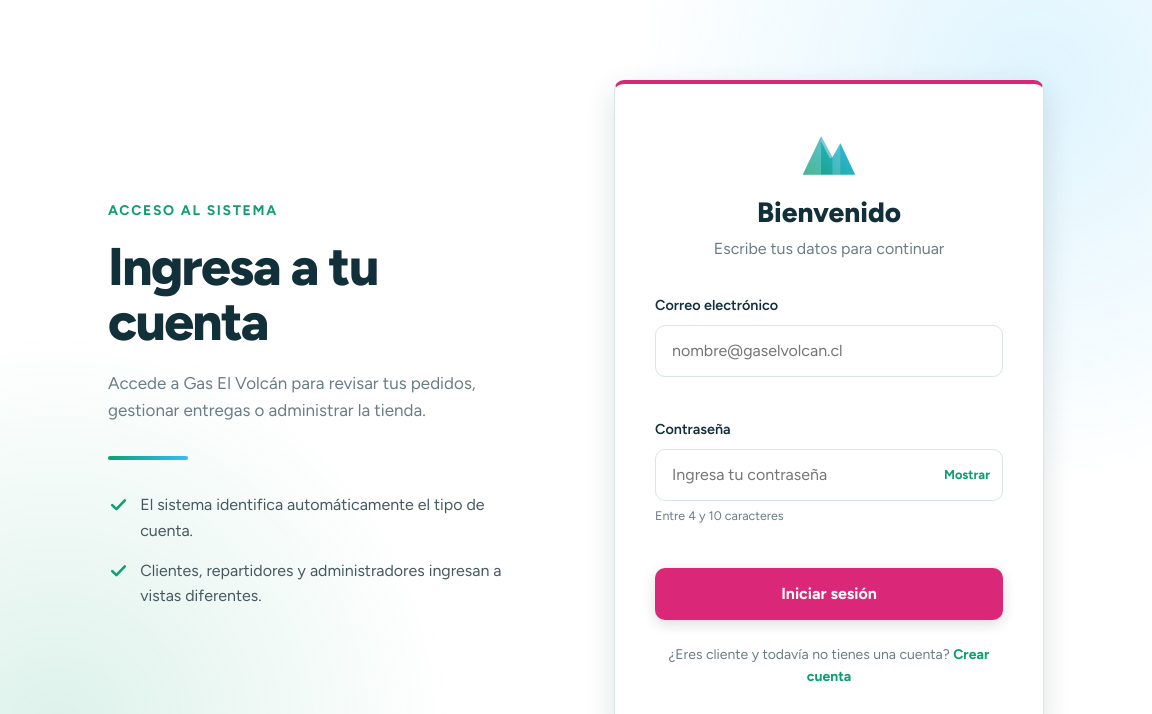
Scenario: Login: errores › avisa si la contraseña es incorrecta
This screenshot has width=1152, height=714.
In the field labelled "Correo electrónico": (829, 351) [655,325,1003,377], type "camila@gmail.com"
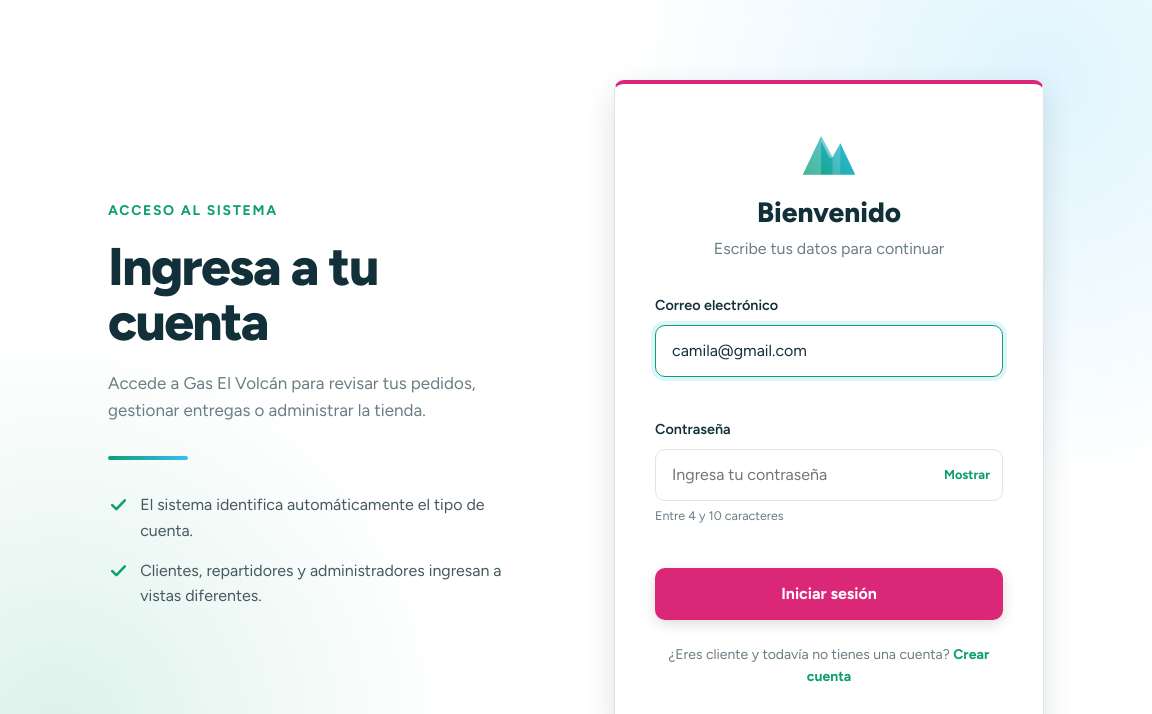
In the password field labelled "Contraseña": (829, 475) [655,449,1003,501], type "Mala123"
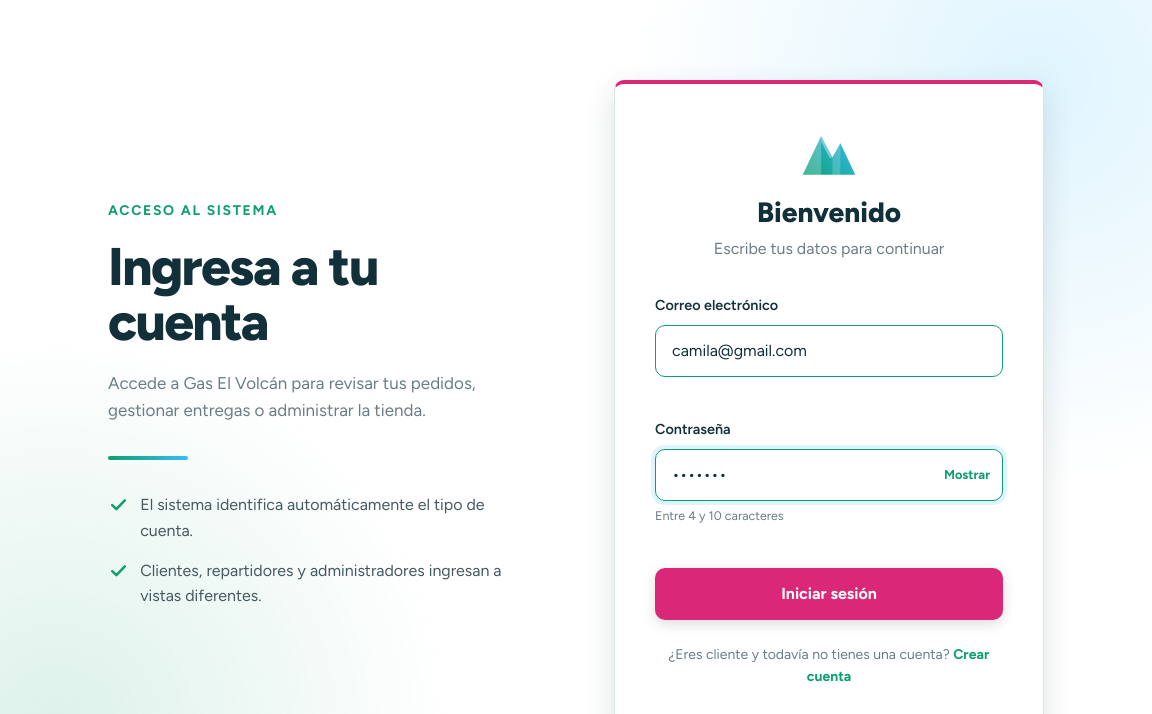
Click the button "Iniciar sesión": (829, 594) [655,568,1003,620]
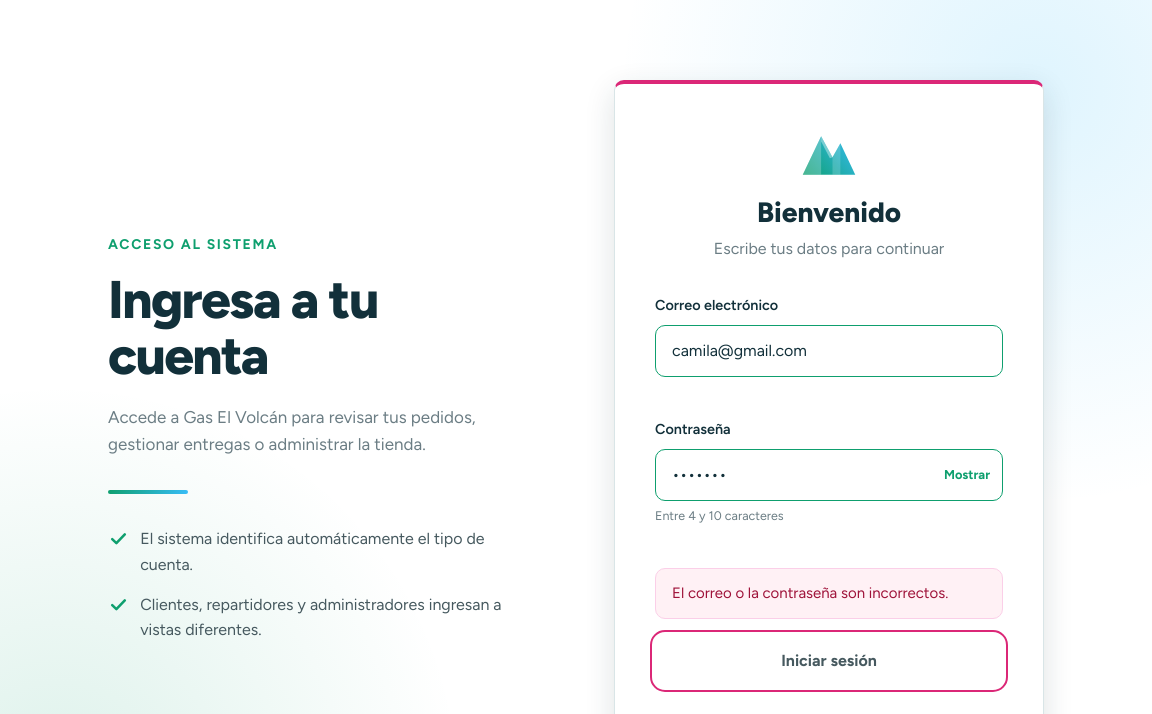
Result: the text "El correo o la contraseña son incorrectos." is shown at [655,568,1003,619]
